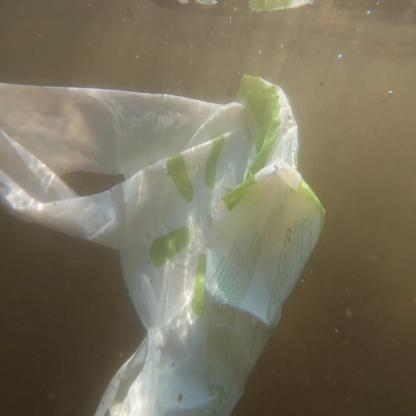Rác: (1, 81, 325, 396)
